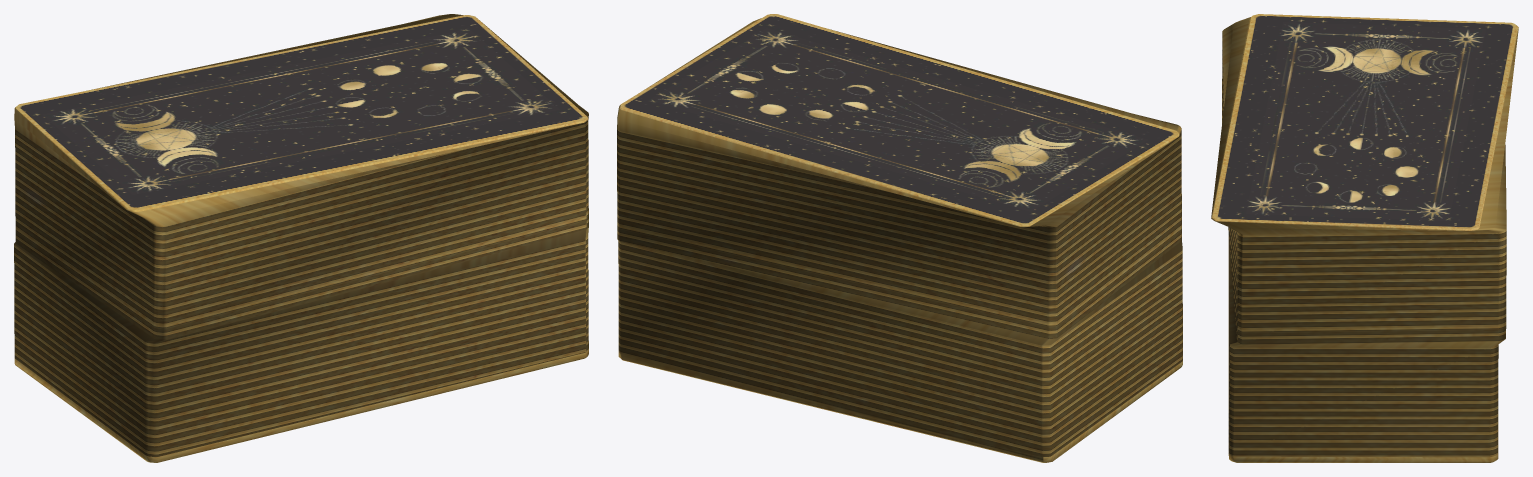
The model's file is TarotDeck.fbx.
The picture shows the model from 3 angles, left to right: view 1: azimuth 30°, elevation 25°; view 2: azimuth 150°, elevation 25°; view 3: azimuth 270°, elevation 25°; orthographic projection. The views are drawn at different scales.
Parts seen in each view (by area): view 1: MO_Key_Card; view 2: MO_Key_Card; view 3: MO_Key_Card.
Boxes of the visible parts, x1,y1,x2,y2 form: MO_Key_Card: [14, 14, 588, 462]; MO_Key_Card: [617, 14, 1182, 462]; MO_Key_Card: [1211, 14, 1518, 462].
Size of the model in its own units: 0.1733 by 0.089 by 0.1042.
